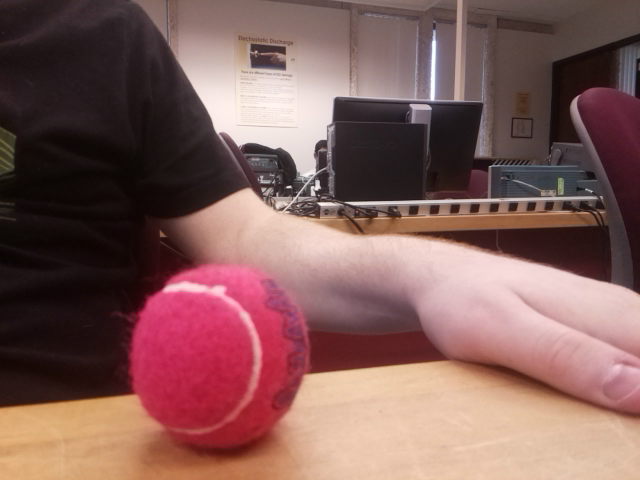red-ball: (124, 259, 313, 456)
